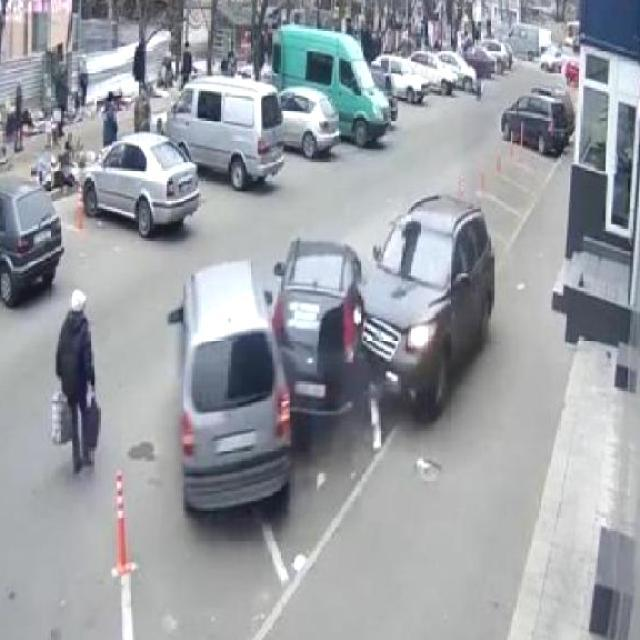accident: (162, 189, 534, 489)
